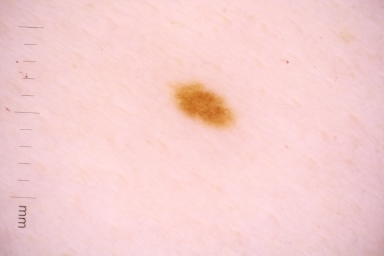nevus: (171, 79, 231, 125)
